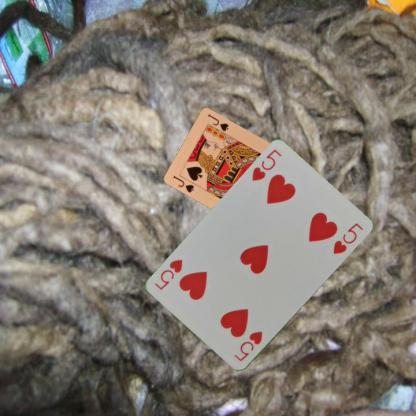5h: (249, 147, 283, 183), (231, 329, 264, 363)
Js: (170, 172, 196, 194)
